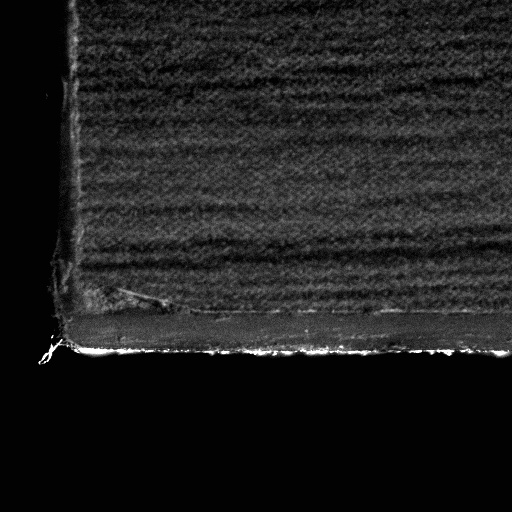bengque: (79, 284, 215, 319)
